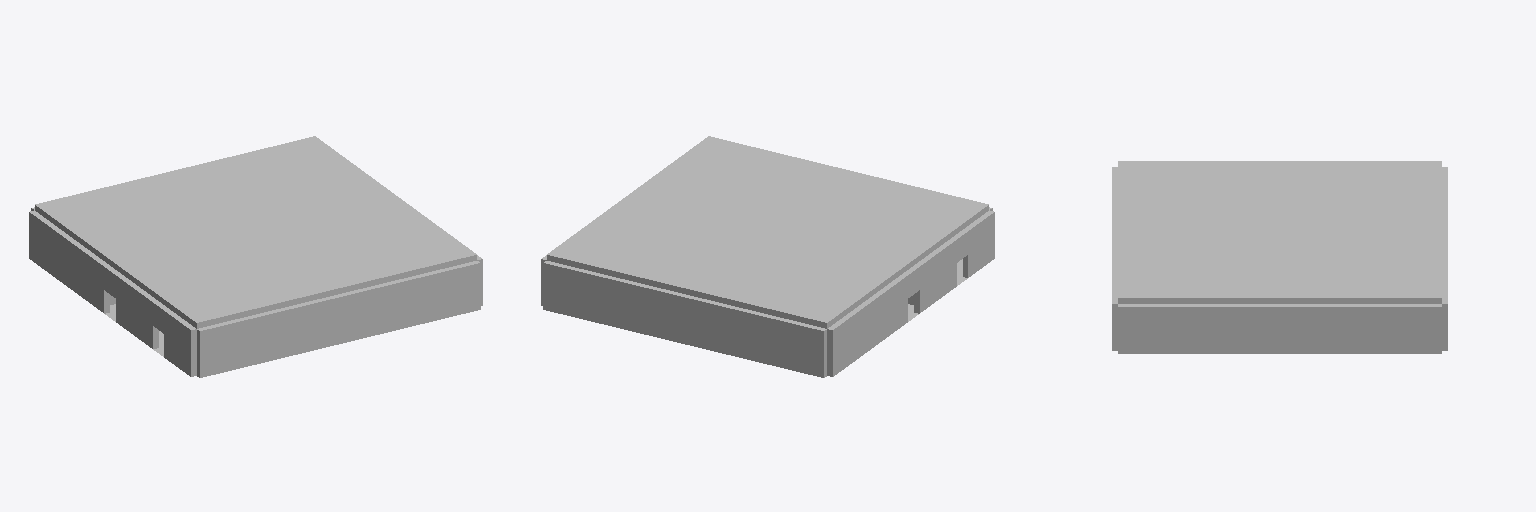
The model's file is Museum.obj.
3 views of the same model, side by side, from view 1: azimuth 30°, elevation 25°; view 2: azimuth 150°, elevation 25°; view 3: azimuth 270°, elevation 25° (orthographic).
Visible parts, largest first — view 1: Cube.009, Cube.001, Cube.004; view 2: Cube.009, Cube.002, Cube.004; view 3: Cube.009, Cube.003, Cube.001, Cube.002.
Part boxes in pixels (x1,y1,x2,y2): Cube.009: (35,136,476,328); Cube.001: (197,261,480,377); Cube.004: (29,210,196,376); Cube.009: (547,136,988,328); Cube.002: (543,261,826,377); Cube.004: (827,210,994,376); Cube.009: (1118,161,1441,303); Cube.003: (1118,304,1441,353); Cube.001: (1112,167,1117,350); Cube.002: (1442,167,1447,350).
Size of the model in its own units: 104 by 18 by 104.